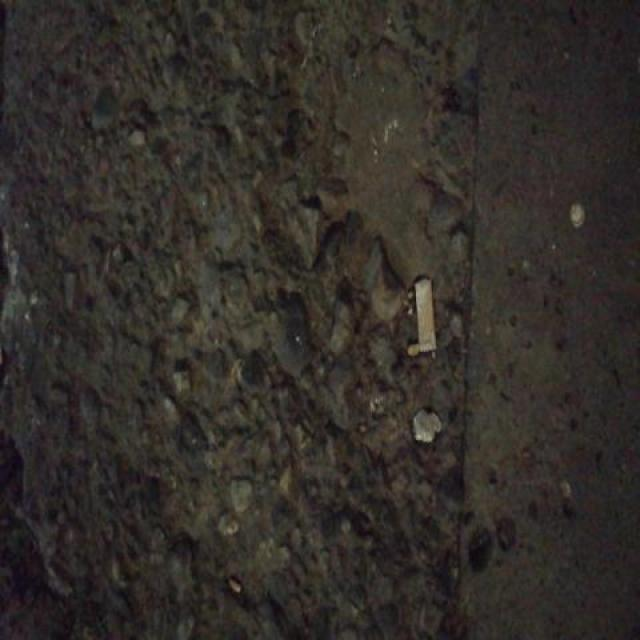non-organic waste: (410, 272, 438, 356)
